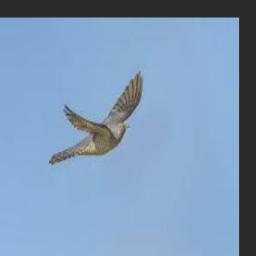Cuckoo: (48, 71, 143, 164)
